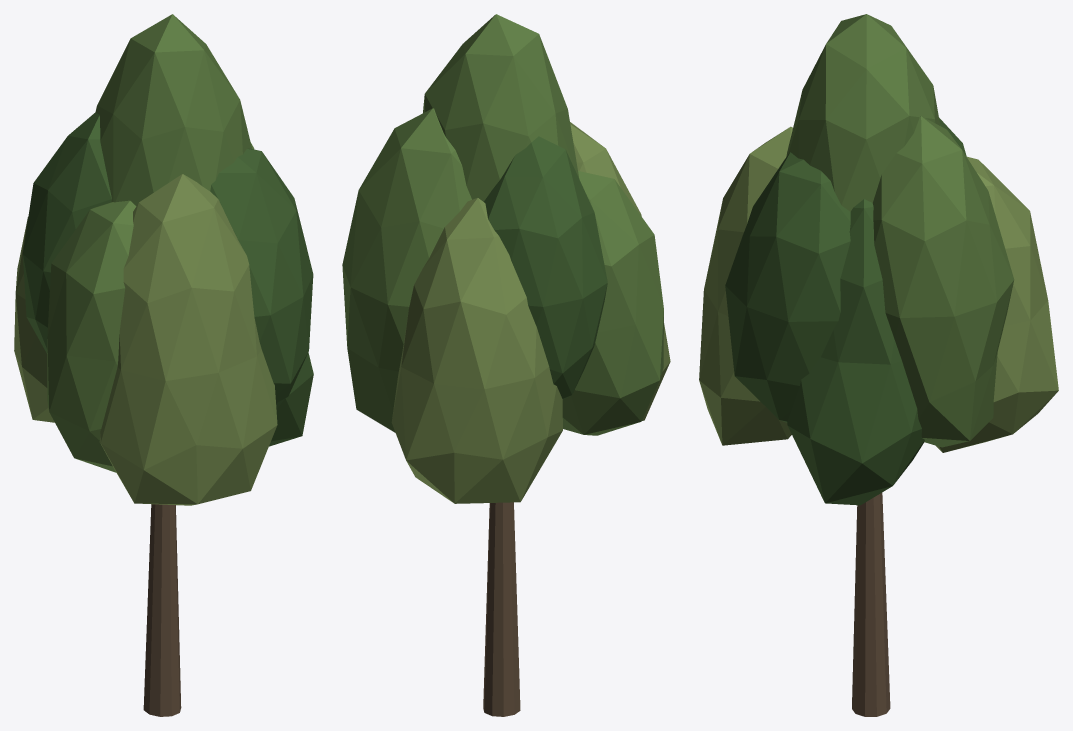
Rendered from upright-lod0.glb.
3 renders of one model, left to right at view 1: azimuth 30°, elevation 25°; view 2: azimuth 150°, elevation 25°; view 3: azimuth 270°, elevation 25°, orthographic.
Parts seen in each view (by area): view 1: upright_LOD0; view 2: upright_LOD0; view 3: upright_LOD0.
Part boxes in pixels (x1,y1,x2,y2): upright_LOD0: [14, 14, 313, 716]; upright_LOD0: [342, 14, 670, 716]; upright_LOD0: [699, 14, 1058, 716].
Size of the model in its own units: 3.83 by 9.2 by 4.29.
